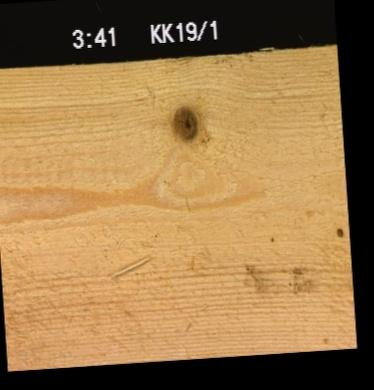small_knot: (333, 225, 343, 238)
sound_knot: (168, 101, 201, 143)
